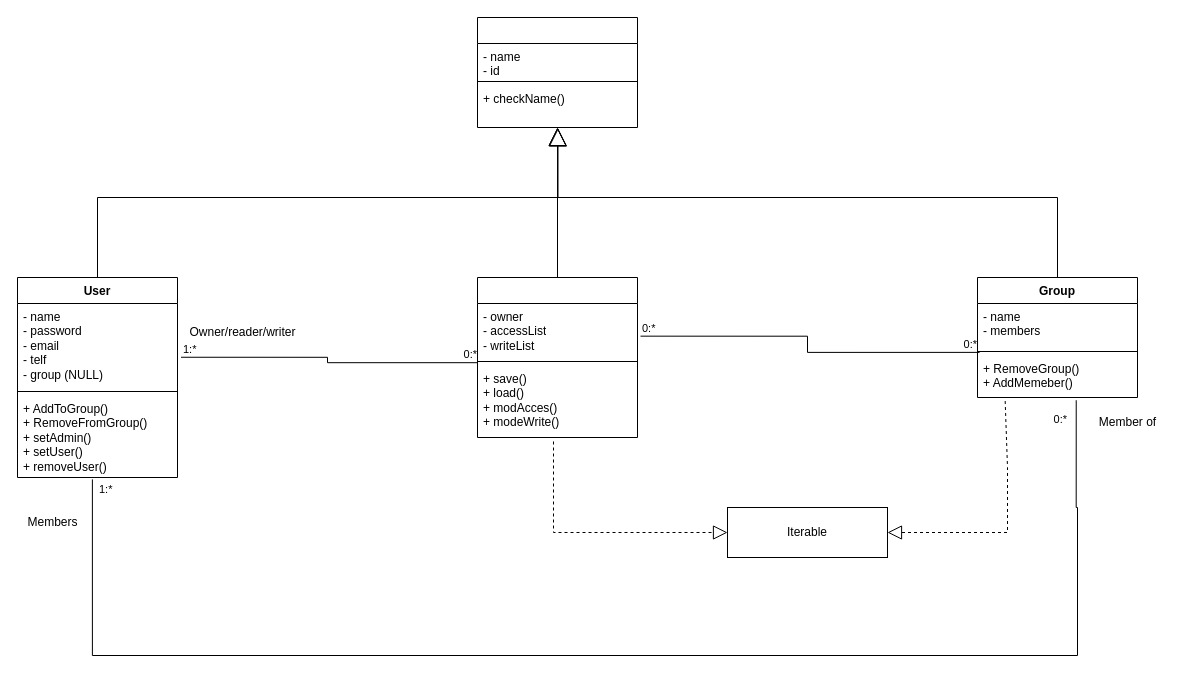
The diagram is 1185 pixels wide and 674 high, and some of its shapes have lost their labels. Here are the shapes that lost their labels. From the top down, the box of each, then its label:
(476, 16, 638, 128): Entity
(476, 276, 638, 438): Fil
